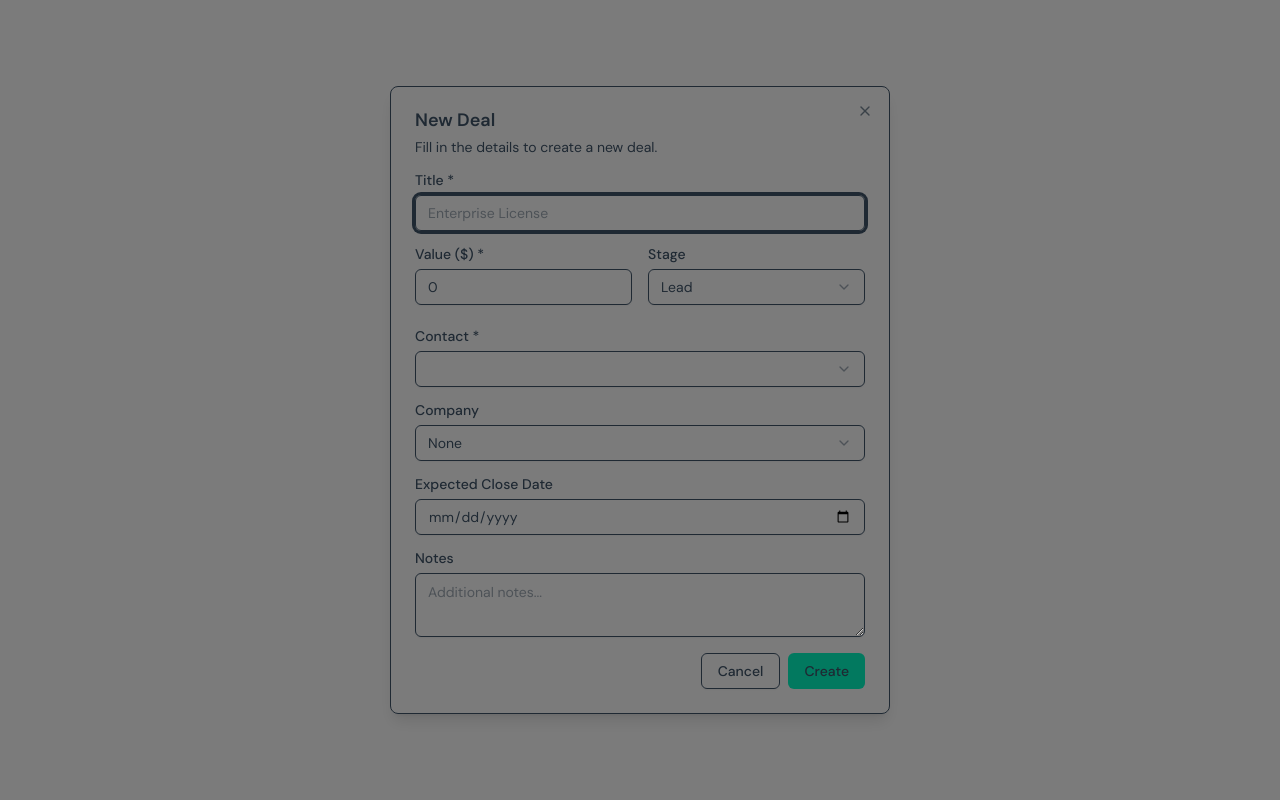
Test: DealFormDialog › shows validation errors when required fields are invalid
Expected: the heading "New Deal" is shown, [415,108,495,132]
Click the button "Create" at [827, 671], box [788,653,865,689]
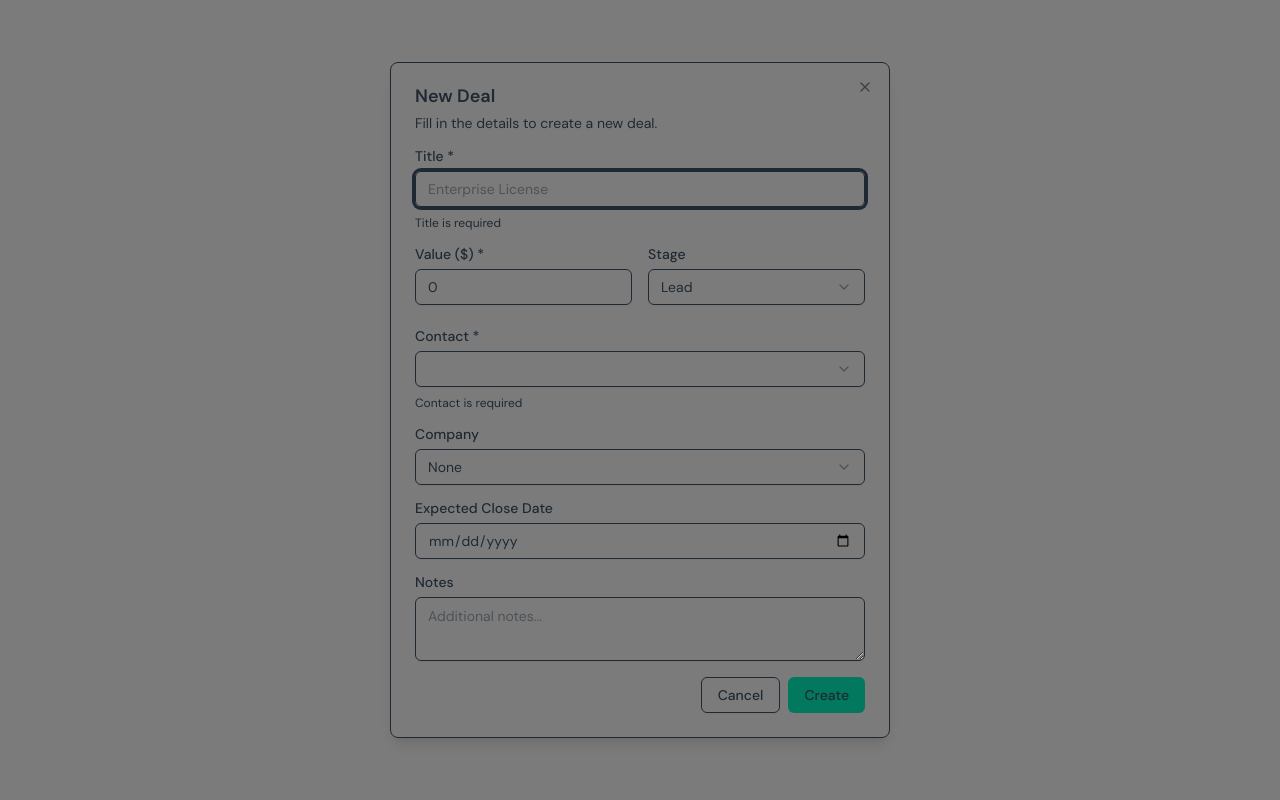
Now the text "Title is required" is shown, box [415,215,501,231]
Now the text "Contact is required" is shown, box [415,395,522,411]
